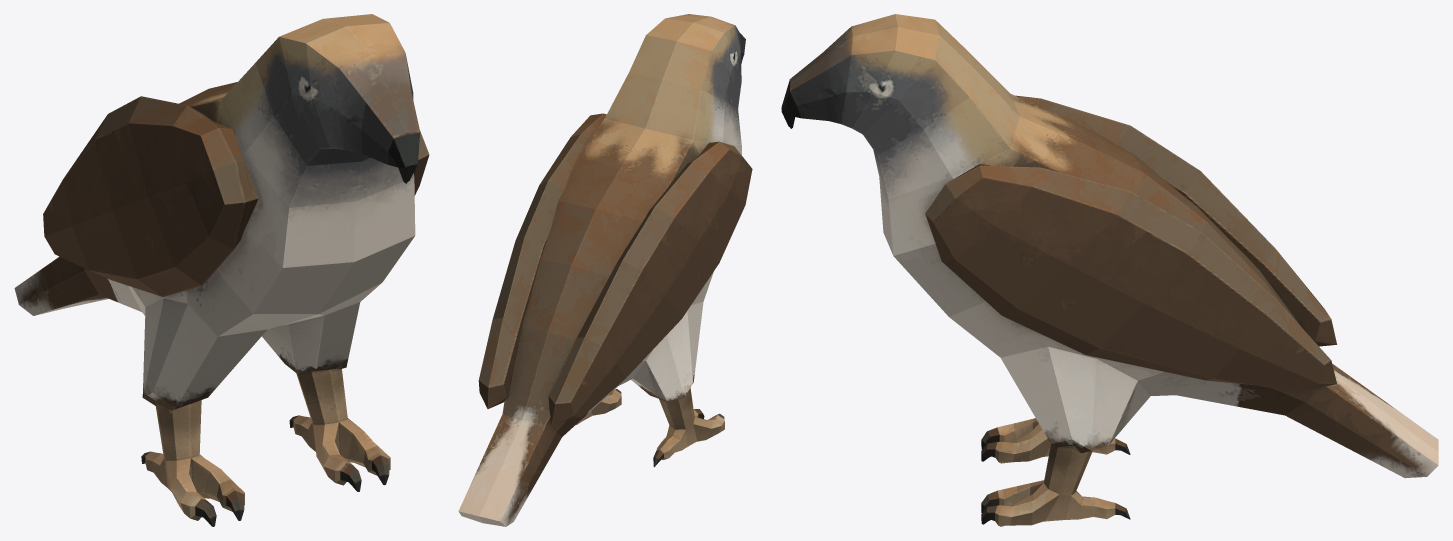
Rendered from PhilippineEagle.fbx.
The picture shows the model from 3 angles, left to right: view 1: azimuth 30°, elevation 25°; view 2: azimuth 150°, elevation 25°; view 3: azimuth 270°, elevation 25°; orthographic projection. The views are drawn at different scales.
Parts seen in each view (by area): view 1: PhilippineEagle; view 2: PhilippineEagle; view 3: PhilippineEagle.
Boxes of the visible parts, <box> form: PhilippineEagle: <box>14,14,429,526</box>; PhilippineEagle: <box>458,14,752,526</box>; PhilippineEagle: <box>781,14,1438,526</box>.
Bounding box in the file's own units: 41.04 × 95.61 × 124.
